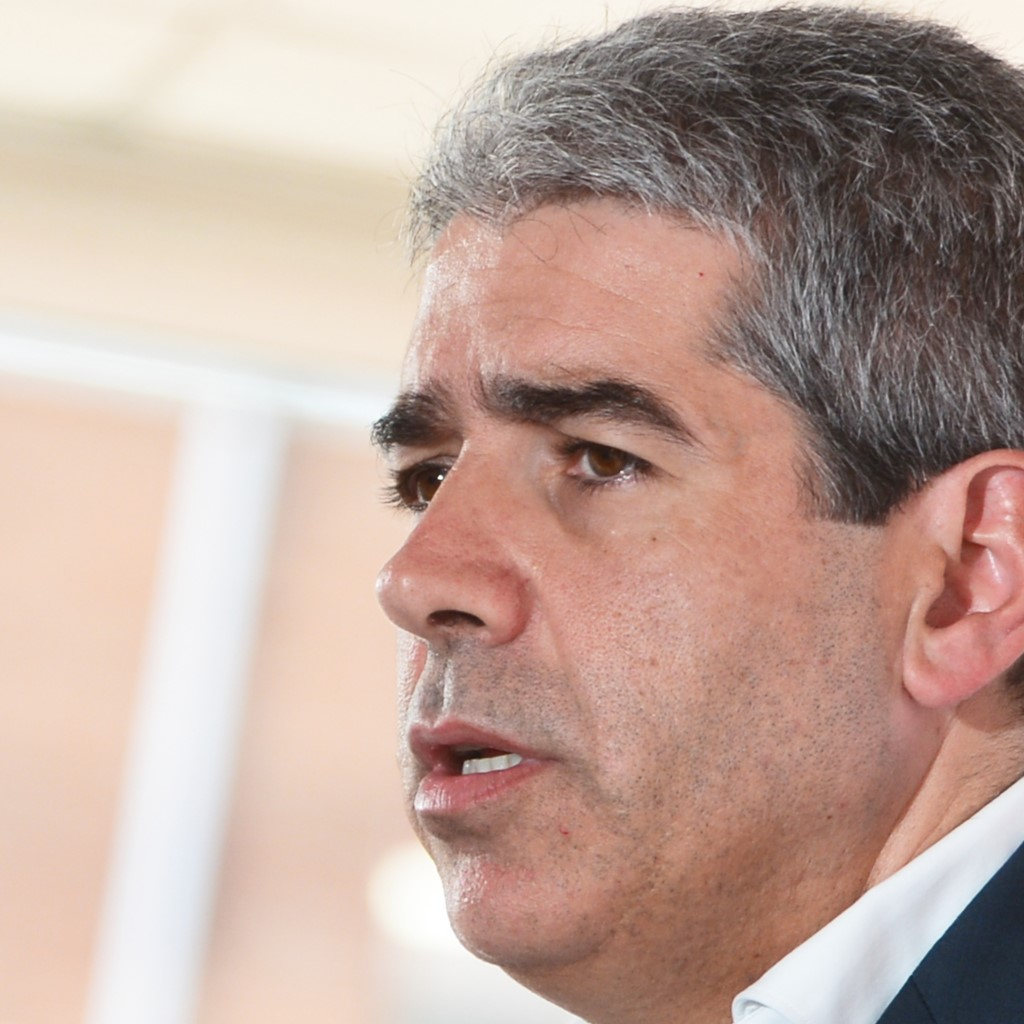sin_mascara: (371, 157, 951, 977)
